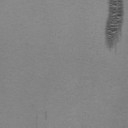oxide scale of plate system: (105, 0, 124, 48)
